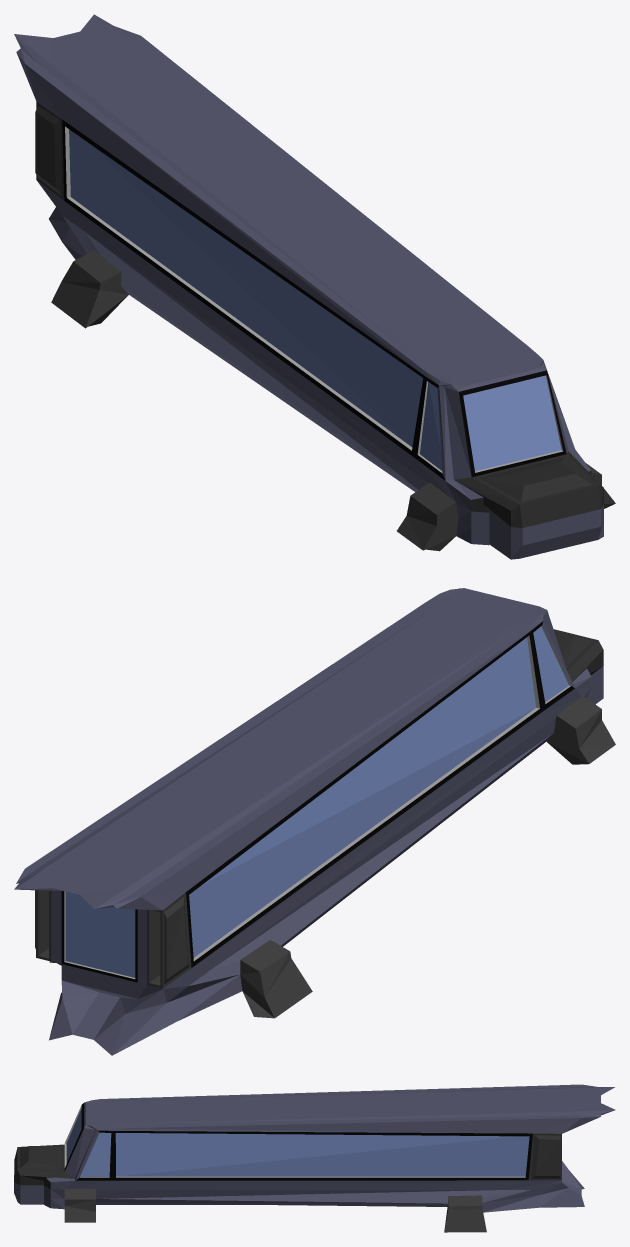
The model's file is bus.fbx.
The picture shows the model from 3 angles, top to bottom: view 1: azimuth 30°, elevation 25°; view 2: azimuth 150°, elevation 25°; view 3: azimuth 270°, elevation 25°; orthographic projection. The views are drawn at different scales.
Visible parts, largest first — view 1: pCube1; view 2: pCube1; view 3: pCube1.
Part boxes in pixels (<box>): pCube1: <box>14,14,615,559</box>; pCube1: <box>14,588,615,1055</box>; pCube1: <box>14,1084,615,1232</box>.
Bounding box in the file's own units: 26.38 × 19.61 × 101.
